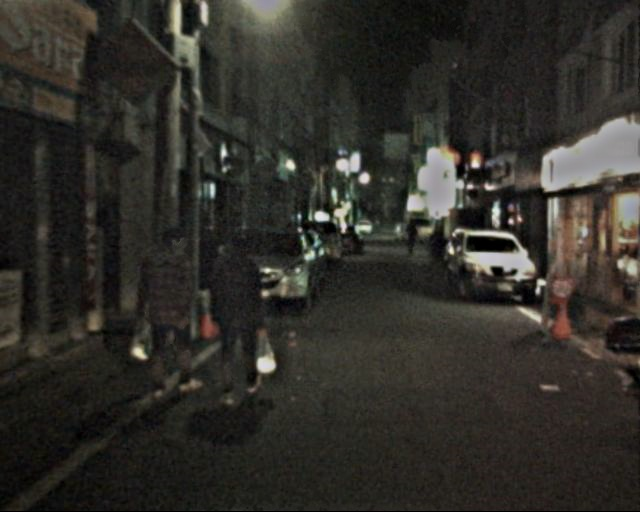person: (204, 228, 277, 409), (140, 224, 210, 397), (406, 221, 421, 256)
